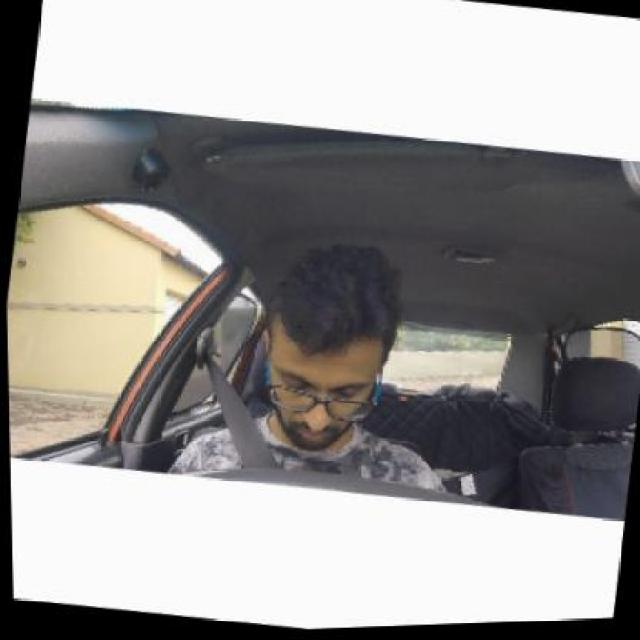drowsy: (246, 232, 414, 464)
